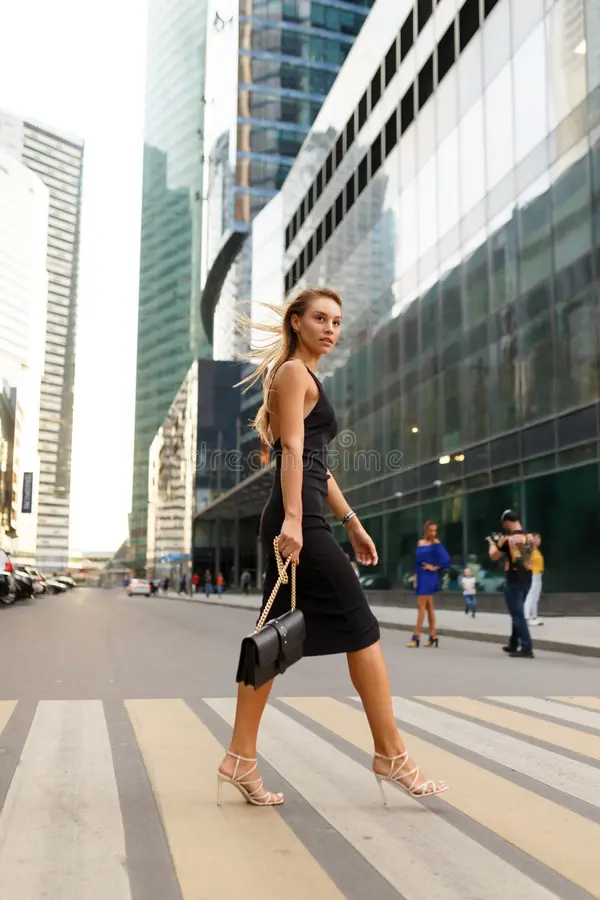person: (211, 277, 454, 815), (484, 501, 549, 667), (404, 507, 448, 647)
